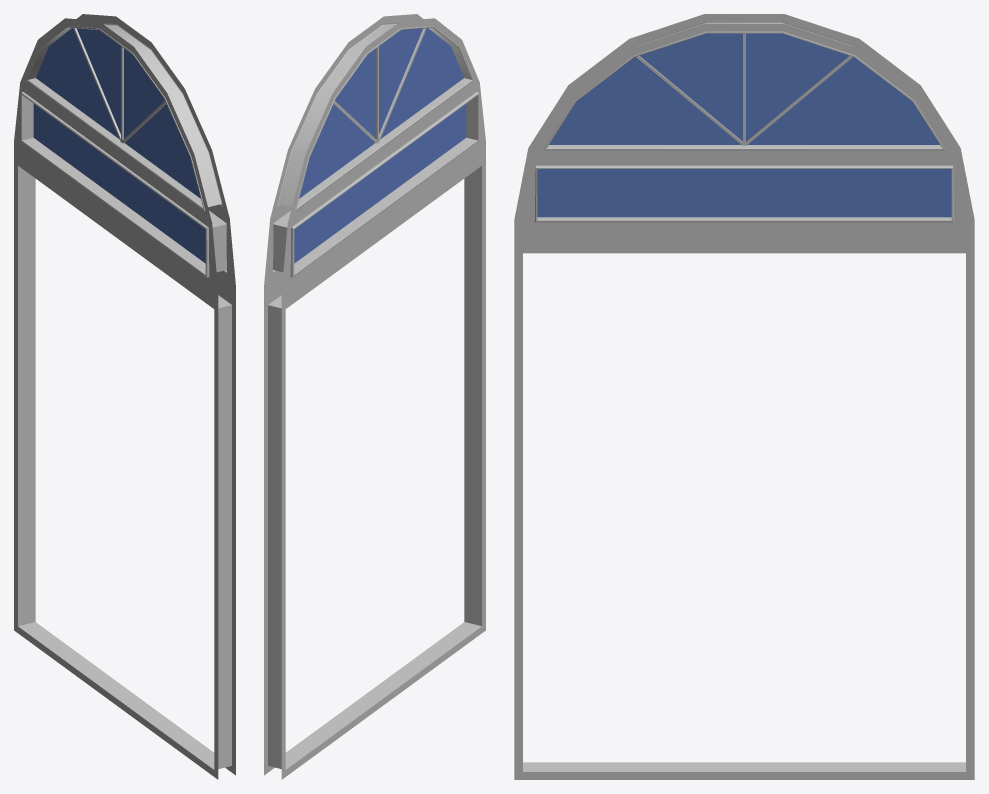
File: door12_frame.fbx
3 renders of one model, left to right at view 1: azimuth 30°, elevation 25°; view 2: azimuth 150°, elevation 25°; view 3: azimuth 270°, elevation 25°, orthographic. The views are drawn at different scales.
Parts seen in each view (by area): view 1: Cylinder_2_2_1; view 2: Cylinder_2_2_1; view 3: Cylinder_2_2_1.
Boxes of the visible parts, left/top/right/bottom form: Cylinder_2_2_1: left=14, top=14, right=235, bottom=779; Cylinder_2_2_1: left=264, top=14, right=485, bottom=779; Cylinder_2_2_1: left=514, top=14, right=974, bottom=779.
Size of the model in its own units: 12.12 by 345 by 190.
